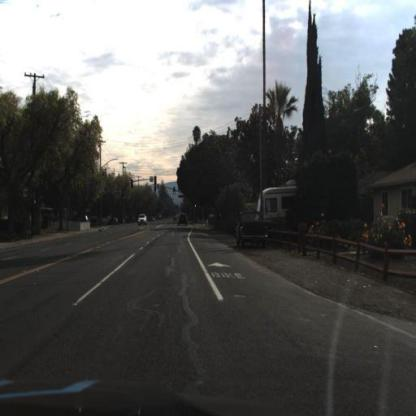car: (236, 209, 270, 250), (175, 209, 193, 232), (137, 214, 148, 228)
truck: (256, 187, 298, 219)
